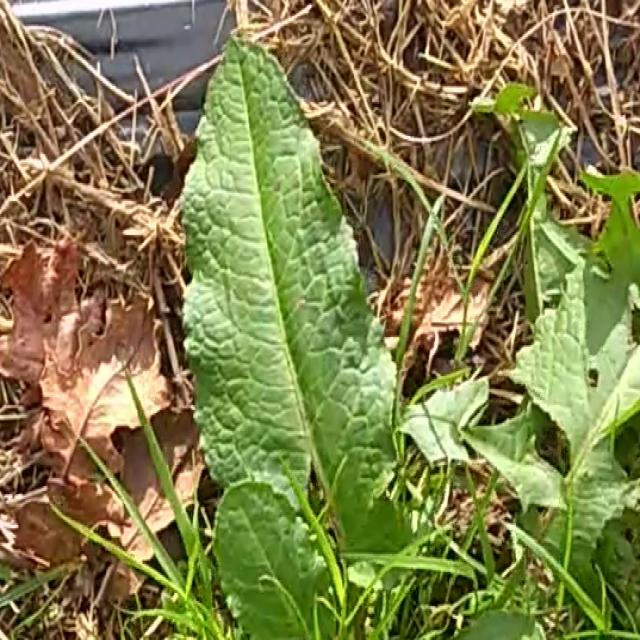organic waste: (114, 39, 640, 640)
